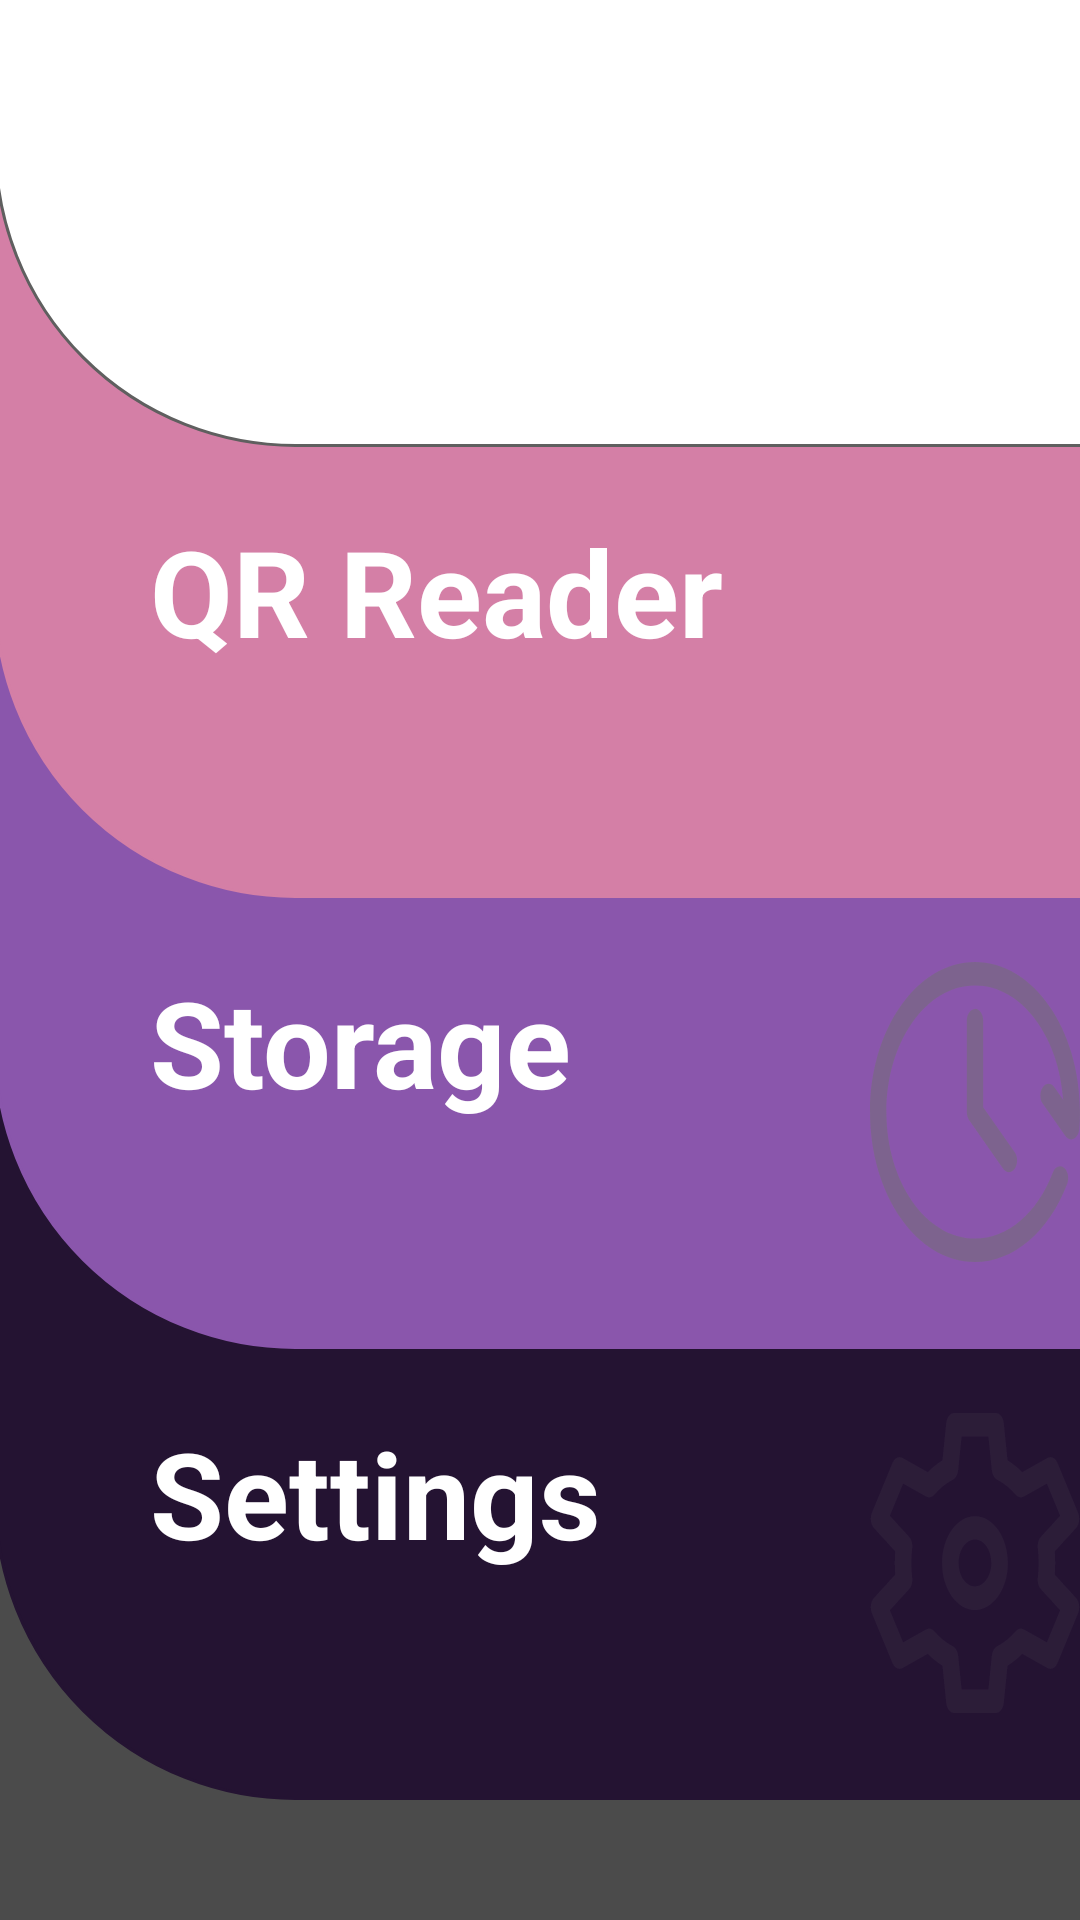

Icon bounding boxes for this 1080 x 1920 phone screenshot, format bbox=[x1, y1, x2, y2]:
history: bbox=[870, 962, 1080, 1262]
